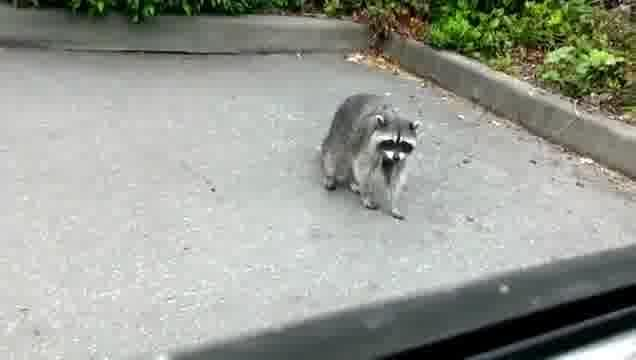raccoon: (322, 91, 421, 219)
